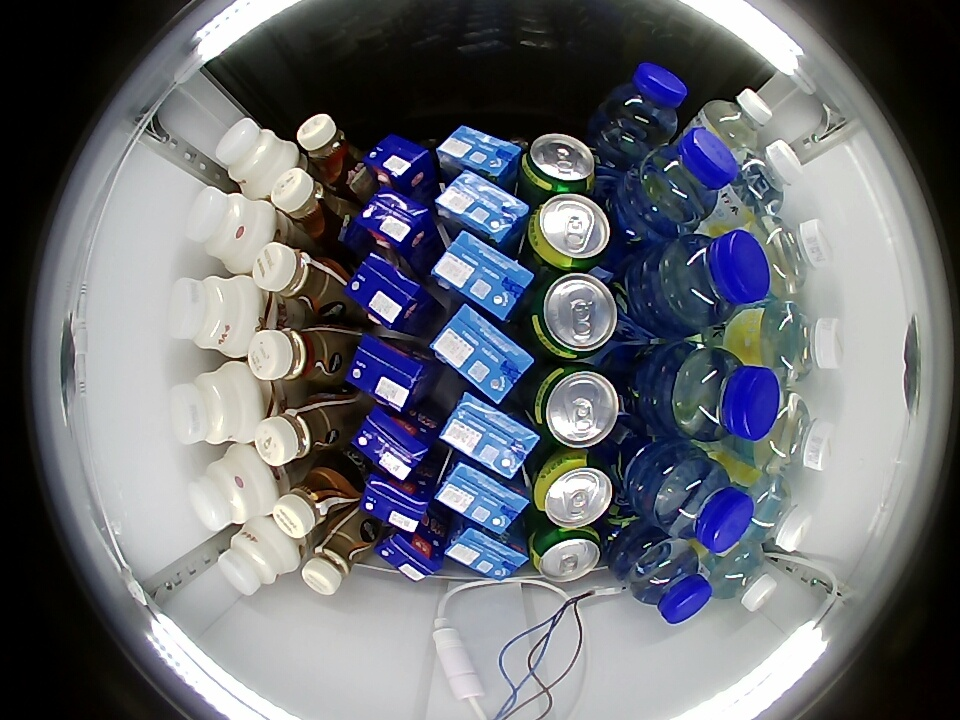bingqilinniunai: (344, 333, 431, 412), (344, 251, 427, 329), (349, 404, 433, 481), (350, 187, 432, 255), (360, 471, 433, 535), (364, 132, 434, 194), (375, 527, 443, 583)
kafei: (252, 242, 346, 320), (255, 393, 349, 466), (247, 324, 349, 388), (273, 462, 358, 538), (272, 169, 348, 249), (296, 114, 371, 193), (301, 519, 376, 595)
maidong: (659, 231, 770, 329), (670, 347, 781, 443), (652, 456, 755, 555), (636, 128, 740, 226), (596, 62, 689, 156), (624, 539, 713, 624)
qinningshui: (744, 215, 833, 299), (760, 301, 845, 382), (750, 392, 836, 472), (735, 473, 812, 551), (697, 88, 774, 163), (725, 140, 803, 212), (704, 539, 779, 610)
weitanai: (430, 304, 534, 403), (430, 230, 534, 322), (438, 390, 540, 479), (434, 458, 530, 535), (434, 170, 529, 246), (443, 522, 529, 582), (437, 124, 522, 183)
xuebi2: (530, 272, 619, 361), (531, 362, 619, 448), (527, 194, 612, 271), (532, 451, 614, 529), (522, 133, 596, 195), (527, 526, 602, 581)
yingyangkuaixian: (185, 187, 277, 274), (169, 361, 262, 445), (188, 444, 277, 531), (168, 274, 261, 357), (215, 118, 300, 199), (217, 517, 299, 595)
